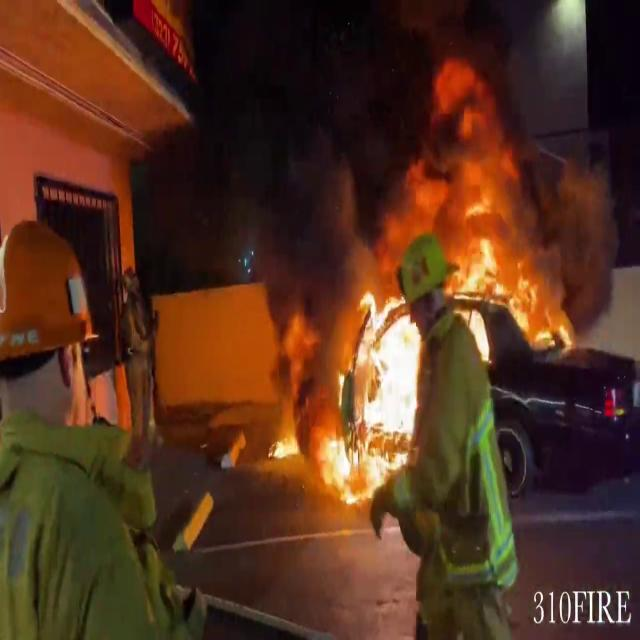Fire: (268, 68, 576, 495)
